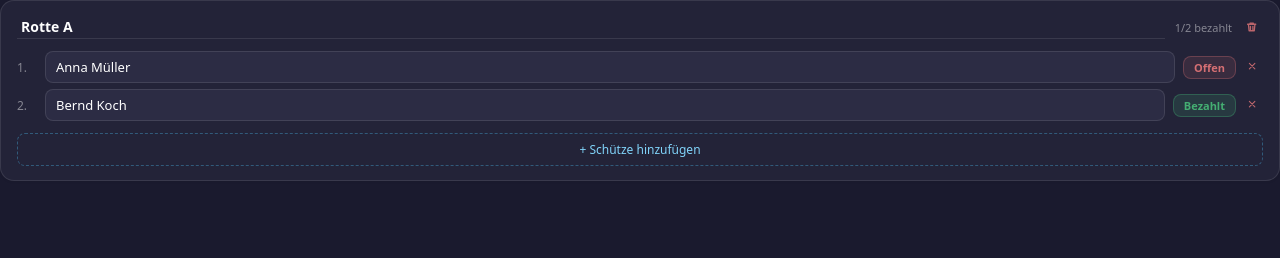
RotteEditorCard › shows UserPickerDropdown when add button is clicked
Click the button with class "add-player-btn". click: (640, 150)
box: [17,133,1263,166]
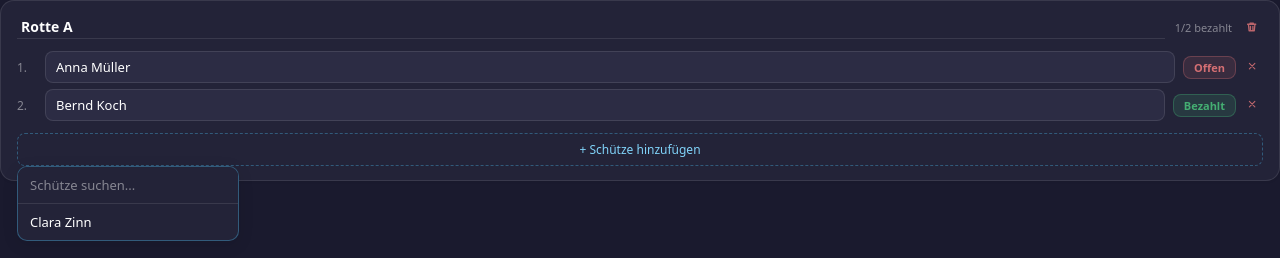
Check: the element showing "Clara Zinn" is shown, box [17,166,239,241]
